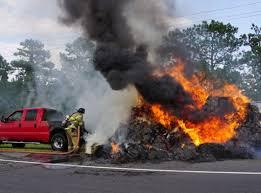fire: (130, 56, 255, 151)
